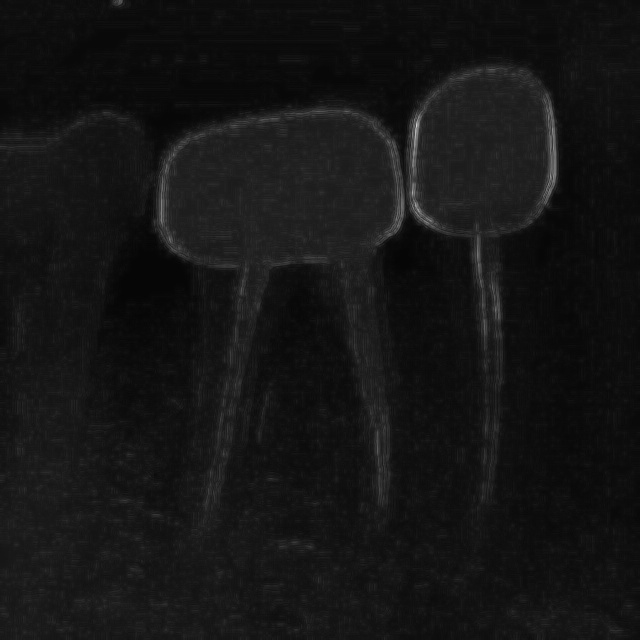Class 0- No endodontic treatment: (134, 77, 413, 608), (386, 40, 581, 610)
cavity: (1, 87, 158, 558)
